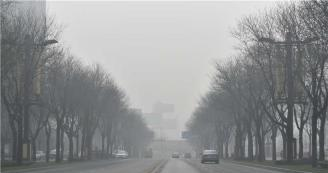car: (200, 148, 219, 163), (114, 150, 128, 159), (171, 150, 180, 159)
